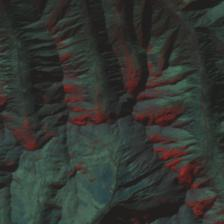landslides: (152, 13, 171, 34)
